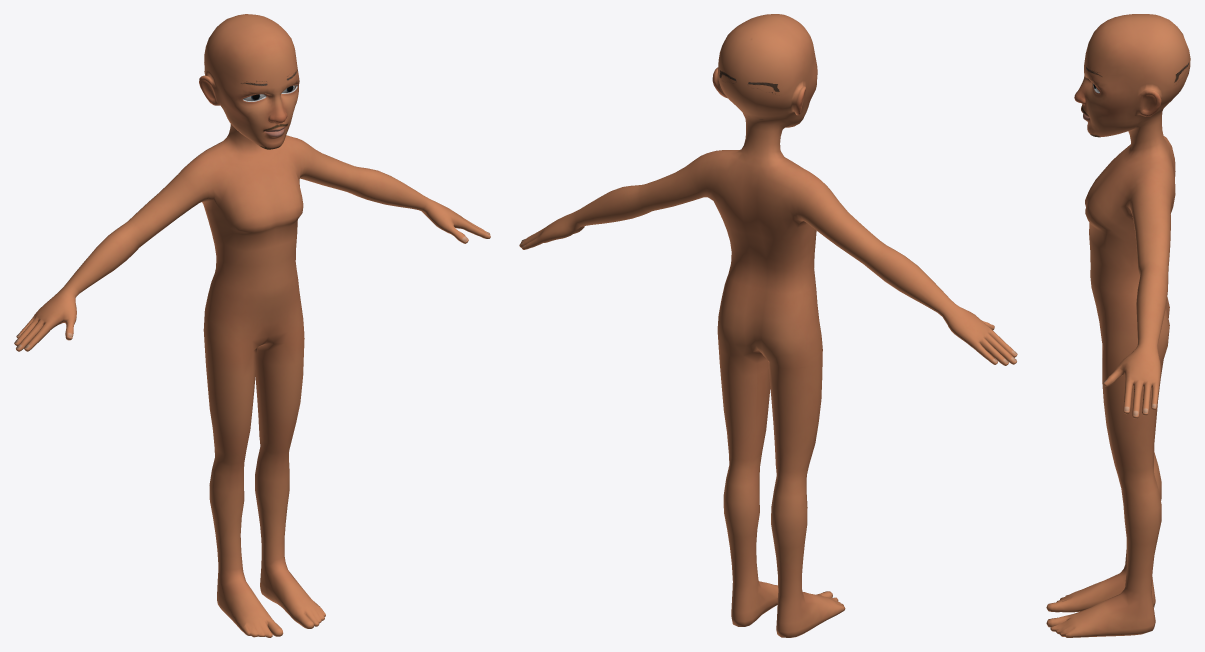
The model's file is frame_0005.glb.
The picture shows the model from 3 angles, left to right: view 1: azimuth 30°, elevation 25°; view 2: azimuth 150°, elevation 25°; view 3: azimuth 270°, elevation 25°; orthographic projection. The views are drawn at different scales.
Visible parts, largest first — view 1: frame_0005_head_geo; view 2: frame_0005_head_geo; view 3: frame_0005_head_geo.
Part boxes in pixels (x1=…): frame_0005_head_geo: x1=14, y1=14, x2=490, y2=637; frame_0005_head_geo: x1=519, y1=14, x2=1017, y2=637; frame_0005_head_geo: x1=1046, y1=14, x2=1190, y2=637.
Size of the model in its own units: 1.28 by 1.5 by 0.3253.
Materials: 4 (2 with a texture image).
